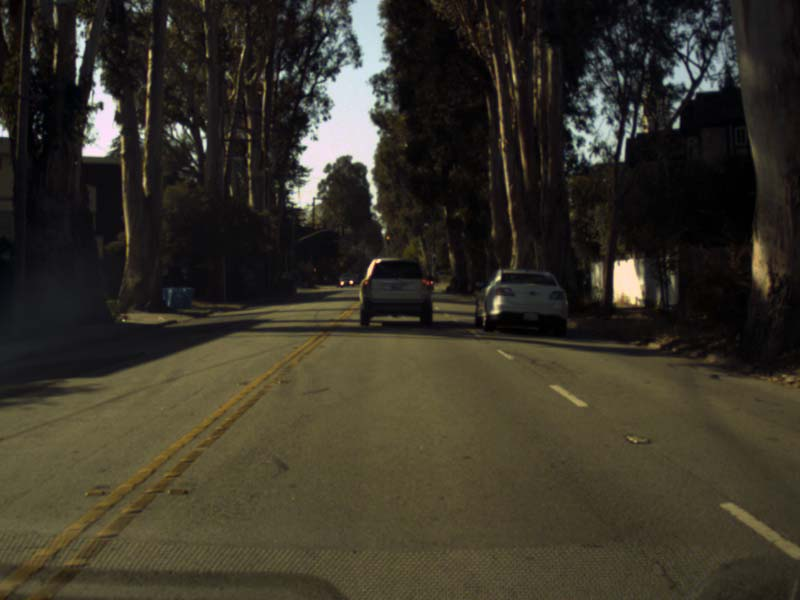Red: (431, 253, 436, 264), (386, 235, 389, 244)
